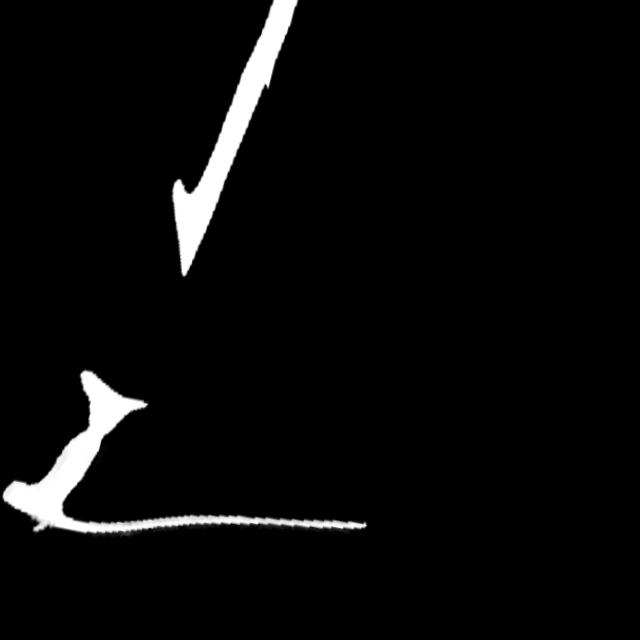sup_pli: (31, 512, 57, 540)
